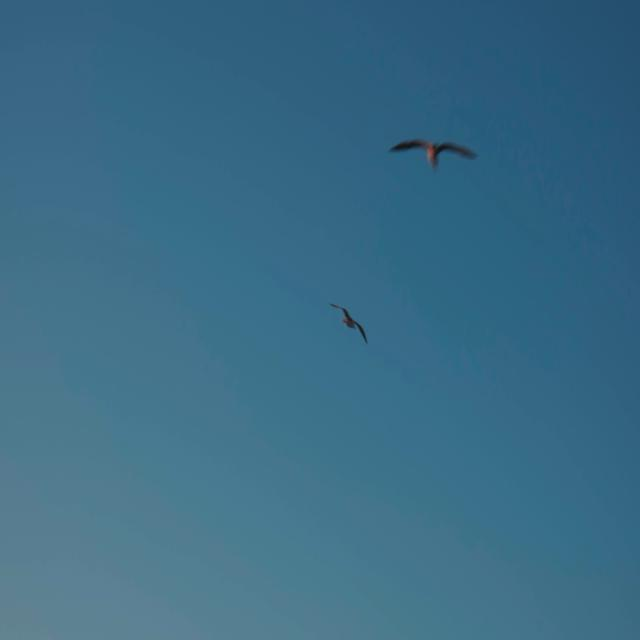bird: (386, 120, 482, 181), (333, 292, 372, 352)
